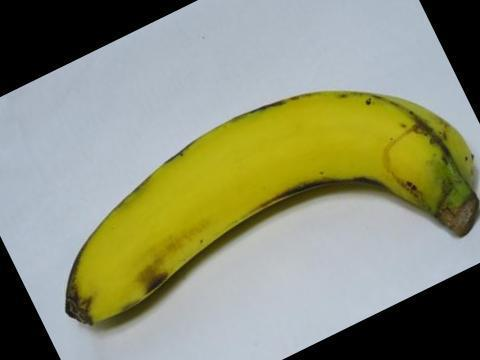freshripe: (55, 68, 479, 337)
